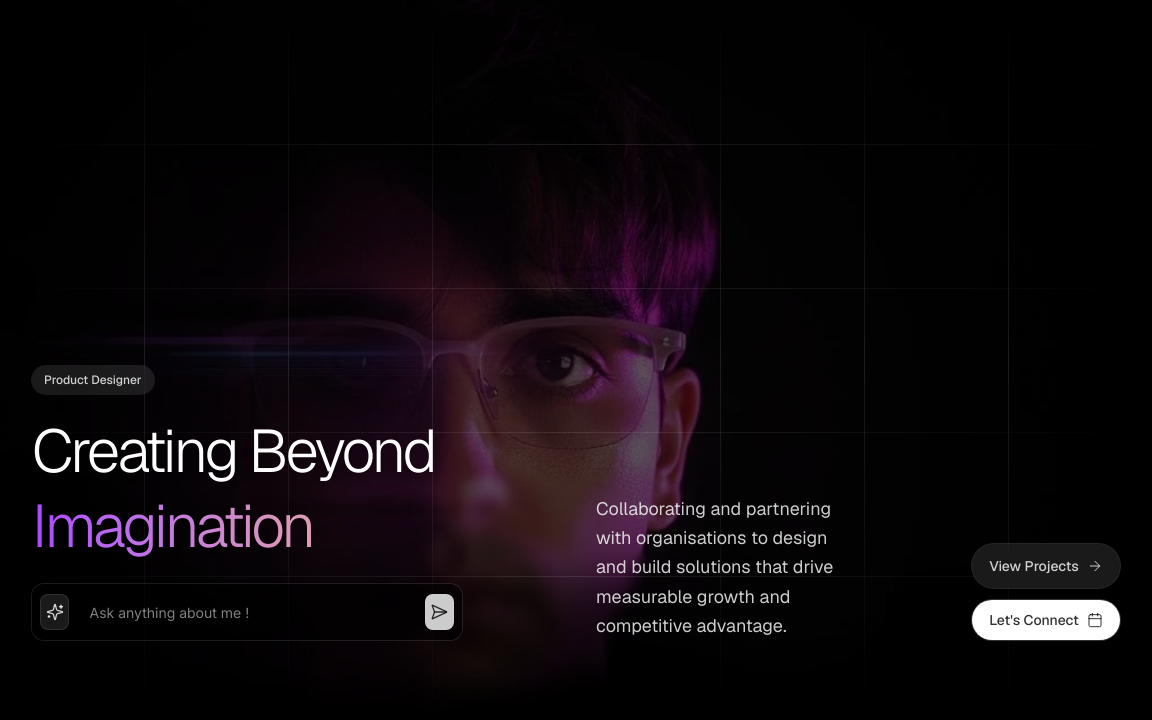
Test case: meeting popup › opens from Let's Connect and restores focus and scroll on close
Step 1. Click the button "Let's Connect" → (1046, 620), box [972,600,1120,640]
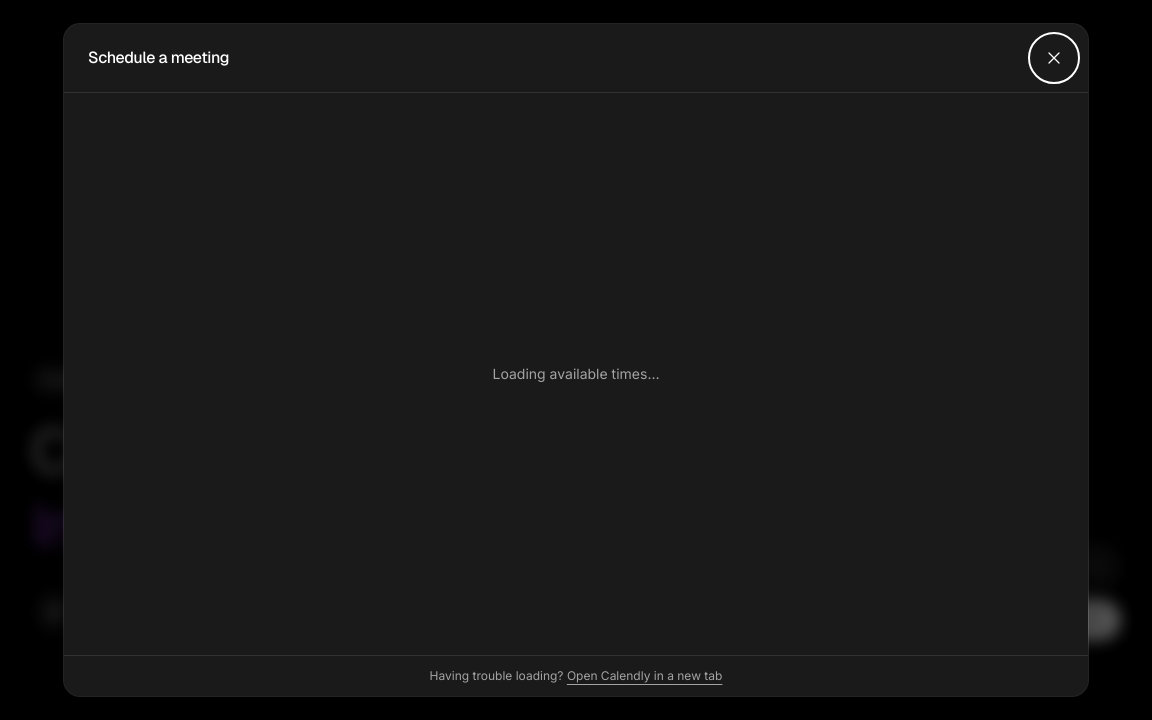
Expected: the dialog "Schedule a meeting" is shown
Expected: the message shows "Loading available times", [492,365,660,382]
Step 2. Click the button named "Close scheduling popup" → (1054, 58), box [1032,36,1076,80]
(page scrolled)
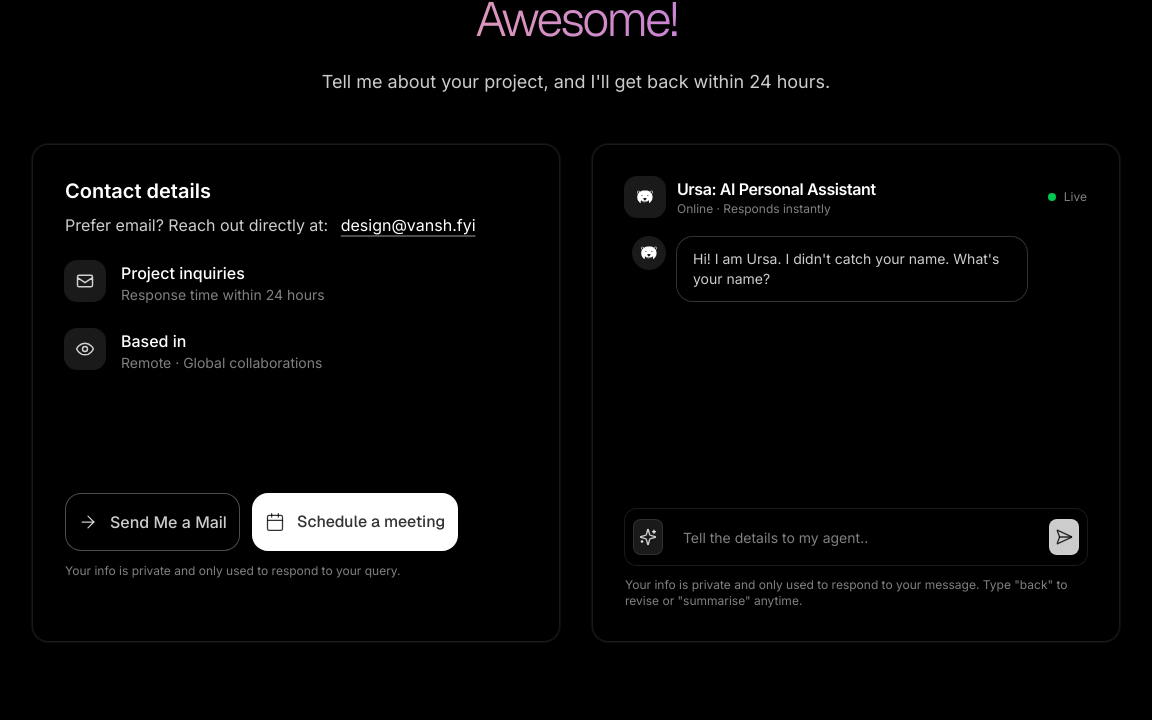
Expected: the dialog is gone
